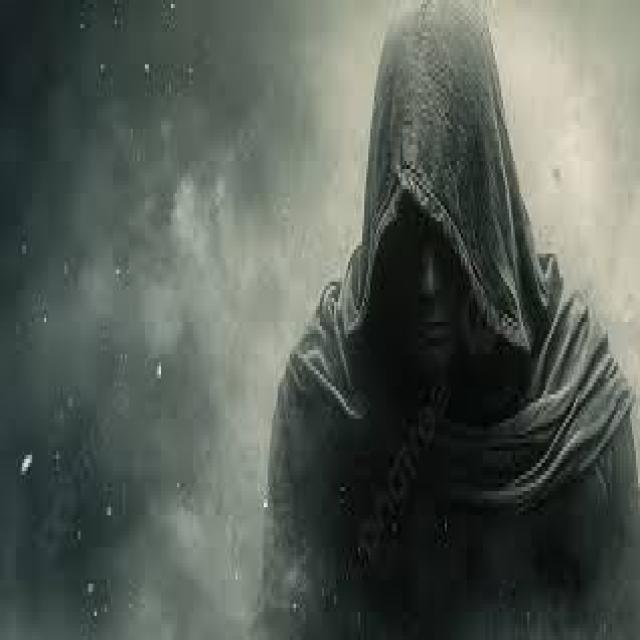4_capucha: (338, 0, 550, 373)
